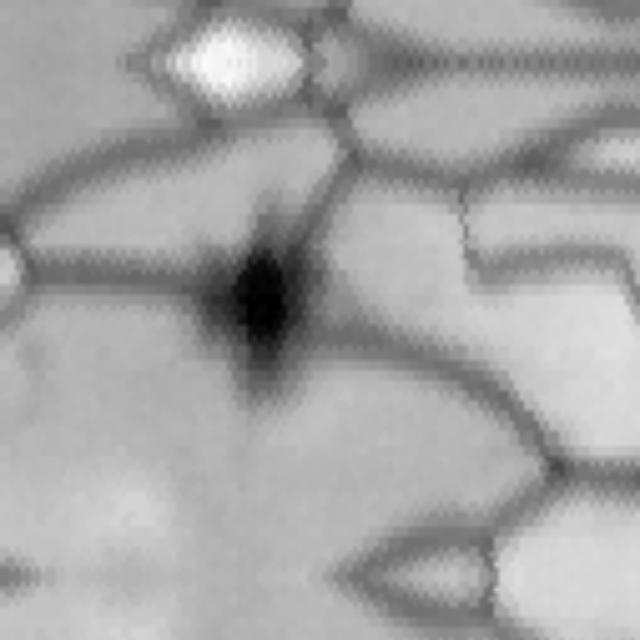good_void: (150, 185, 386, 447)
